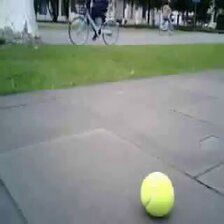tennis: (139, 172, 177, 218)
